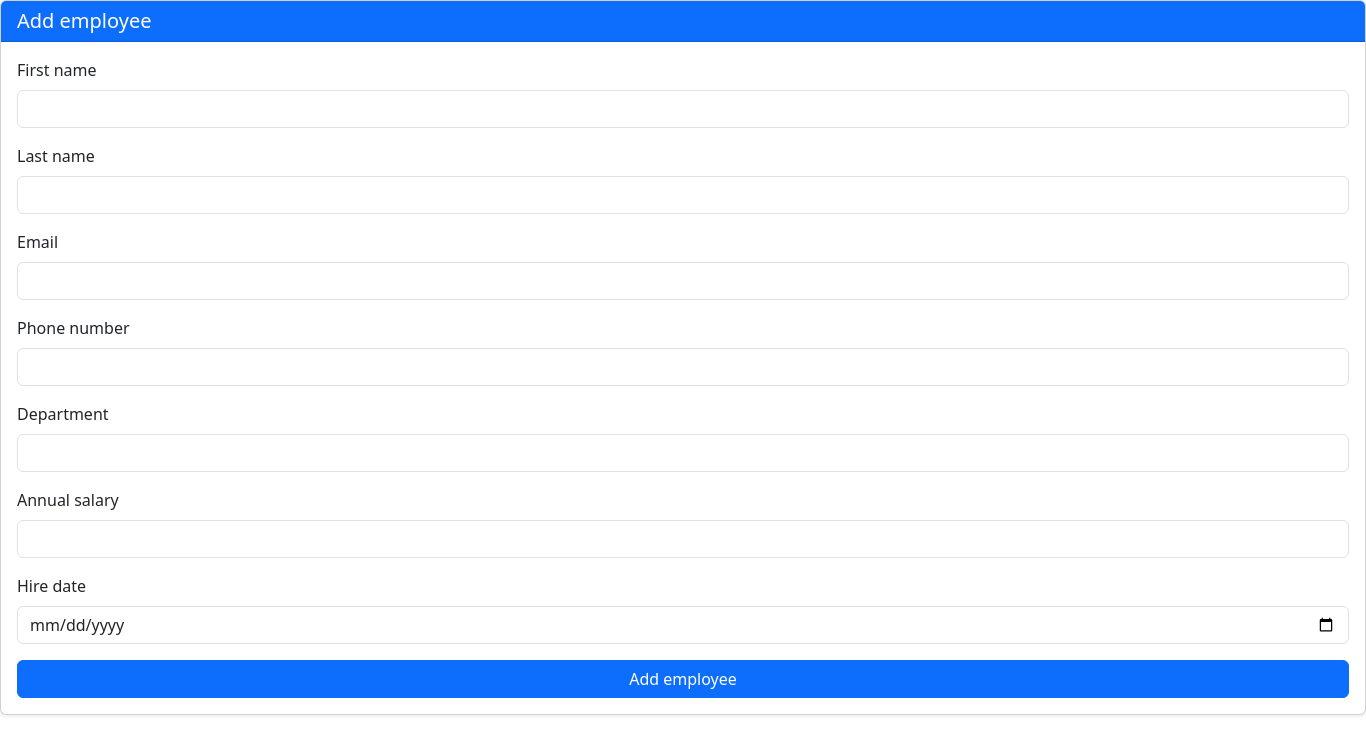
EmployeeForm › submits typed values and confirms successful creation
In the field labelled "First name": (683, 109) top-left (17, 90), bottom-right (1349, 128), type "Avery"
In the field labelled "Last name": (683, 195) top-left (17, 176), bottom-right (1349, 214), type "Morgan"
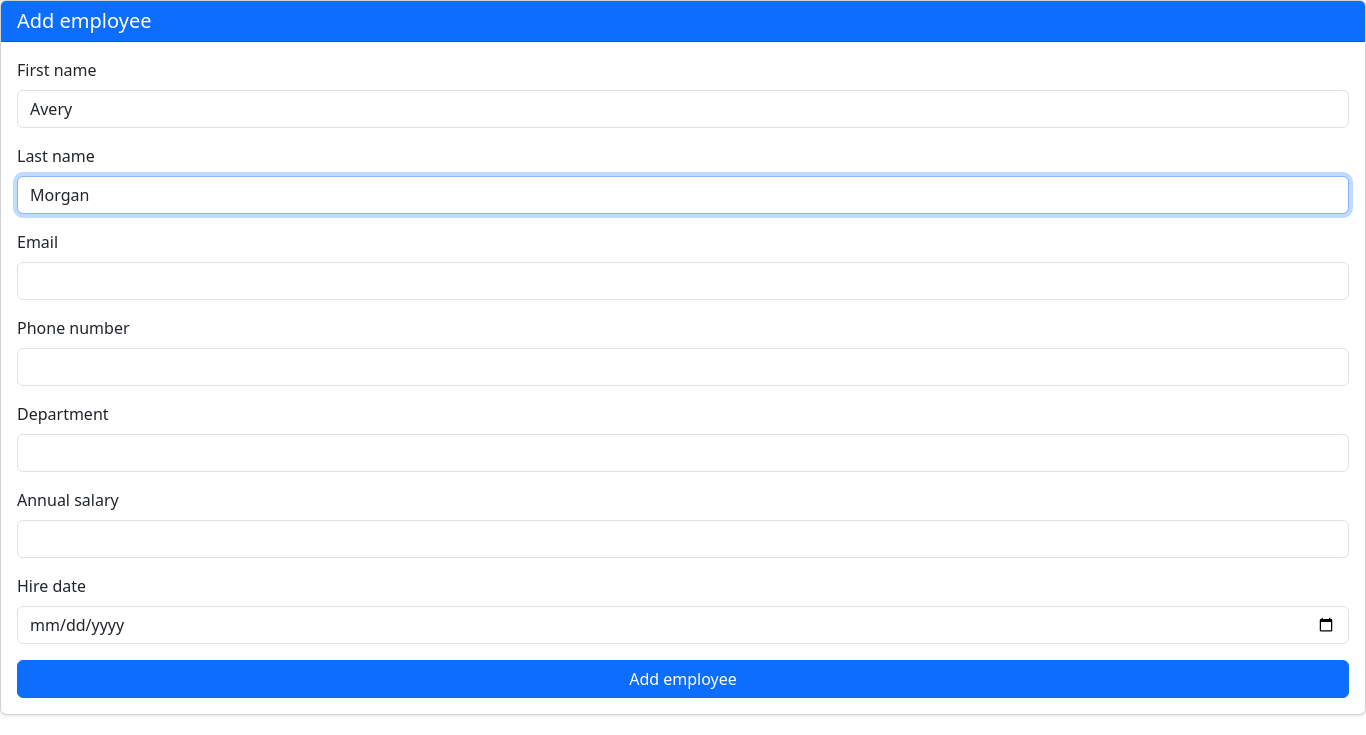
In the field labelled "Email": (683, 281) top-left (17, 262), bottom-right (1349, 300), type "avery.morgan@example.com"
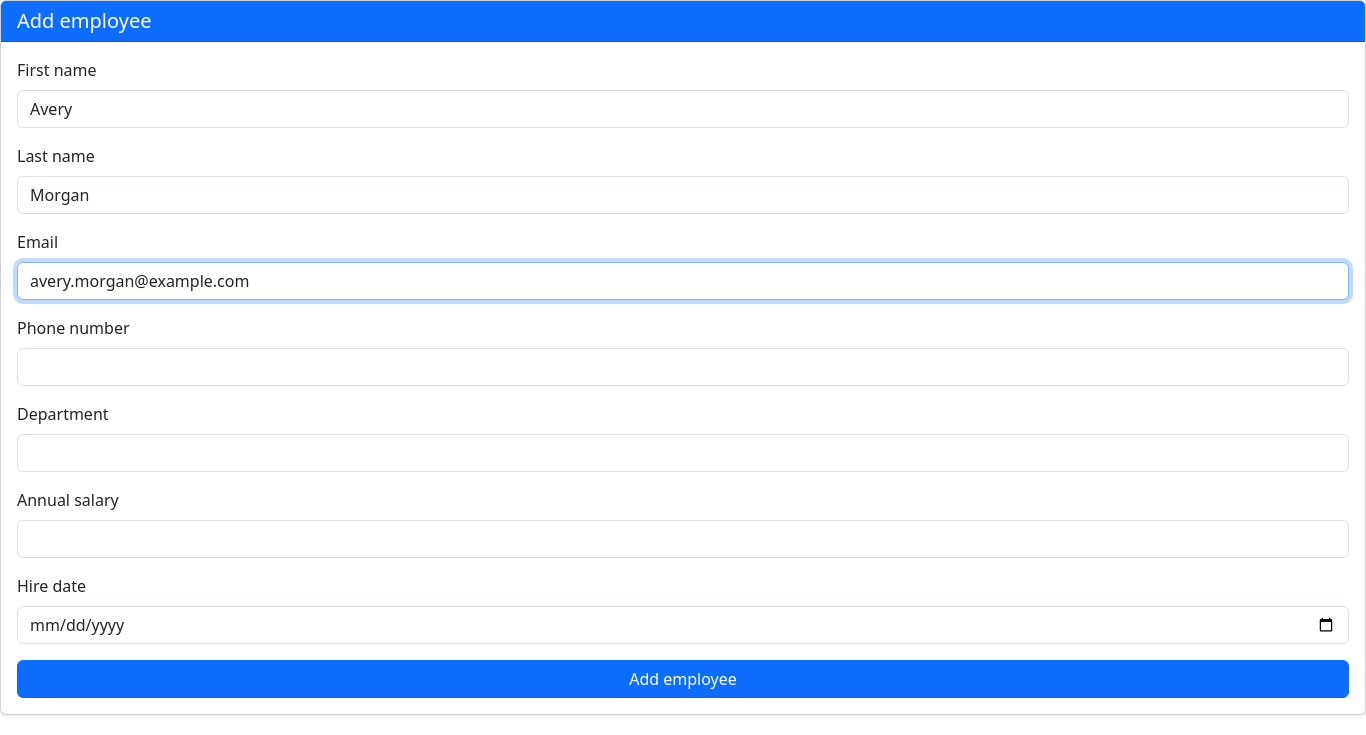
In the field labelled "Phone number": (683, 367) top-left (17, 348), bottom-right (1349, 386), type "555-0100"
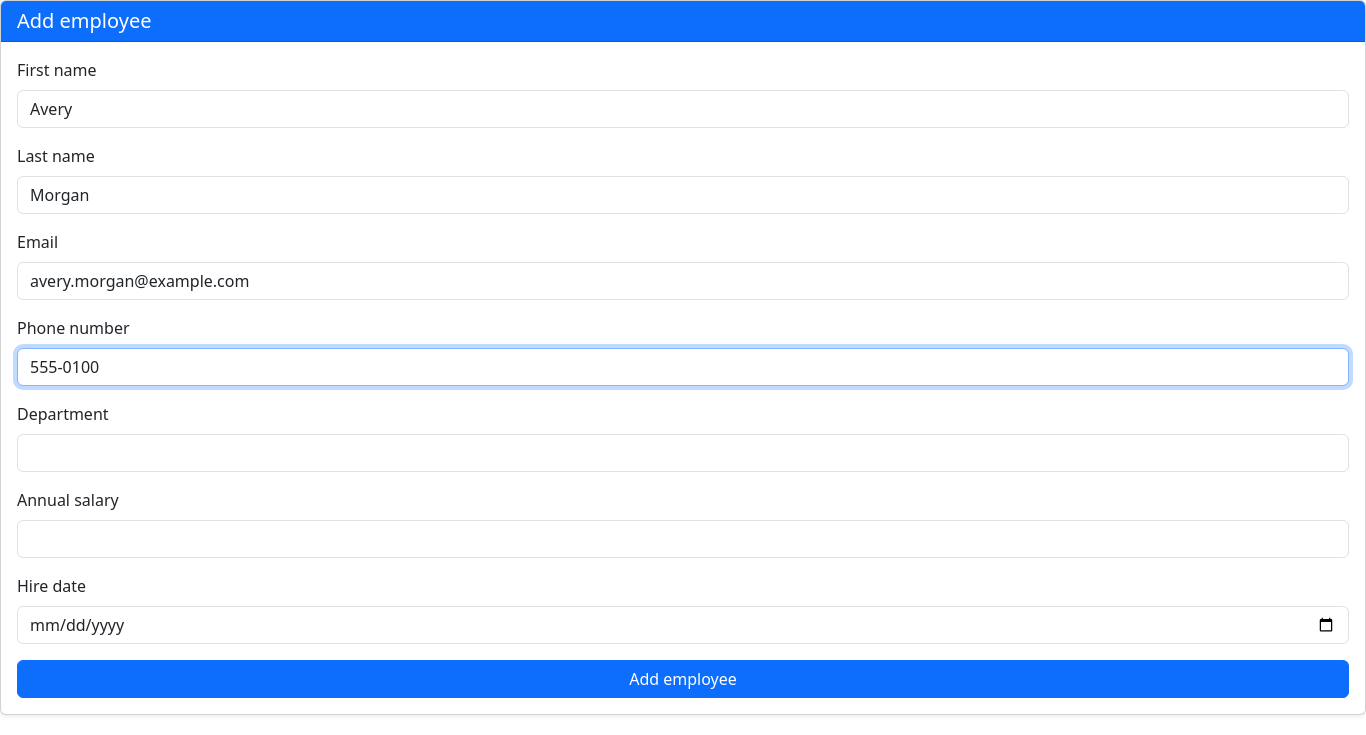
In the field labelled "Department": (683, 453) top-left (17, 434), bottom-right (1349, 472), type "Engineering"
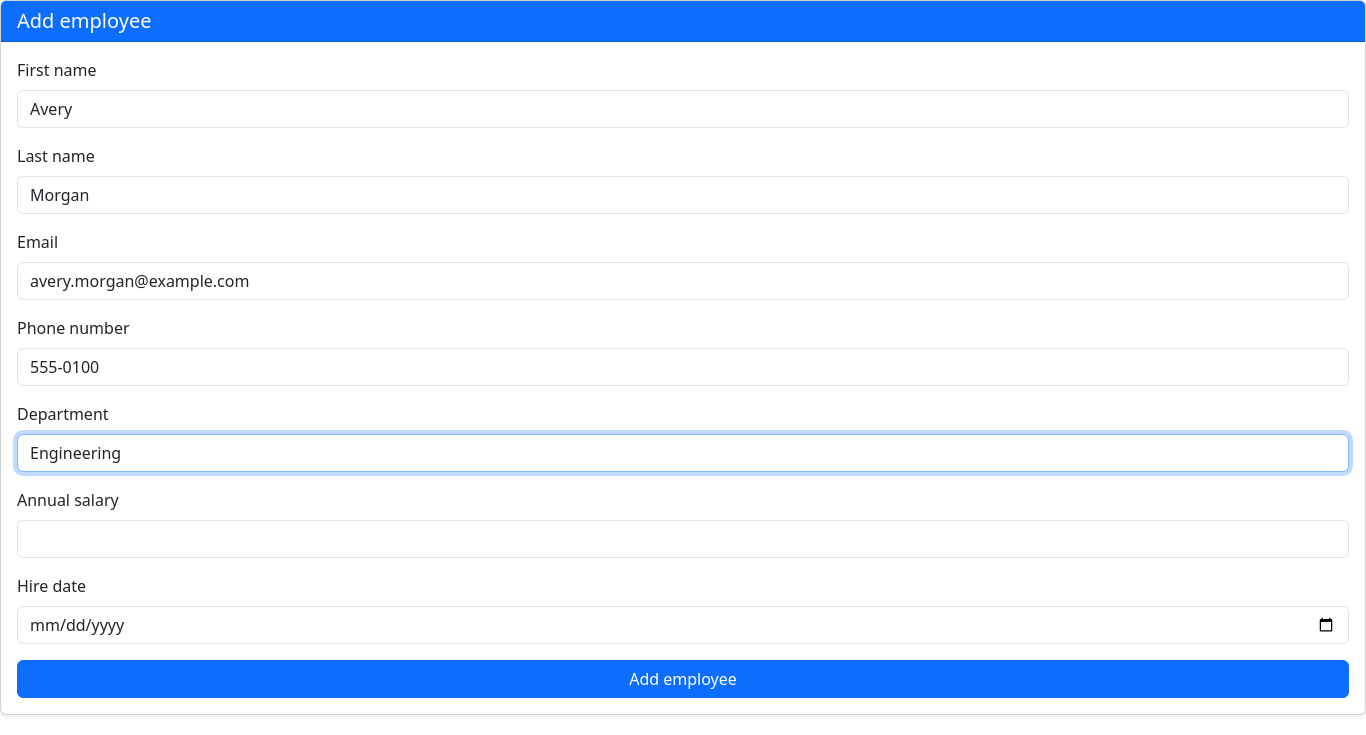
In the number field labelled "Annual salary": (683, 539) top-left (17, 520), bottom-right (1349, 558), type "85000.25"
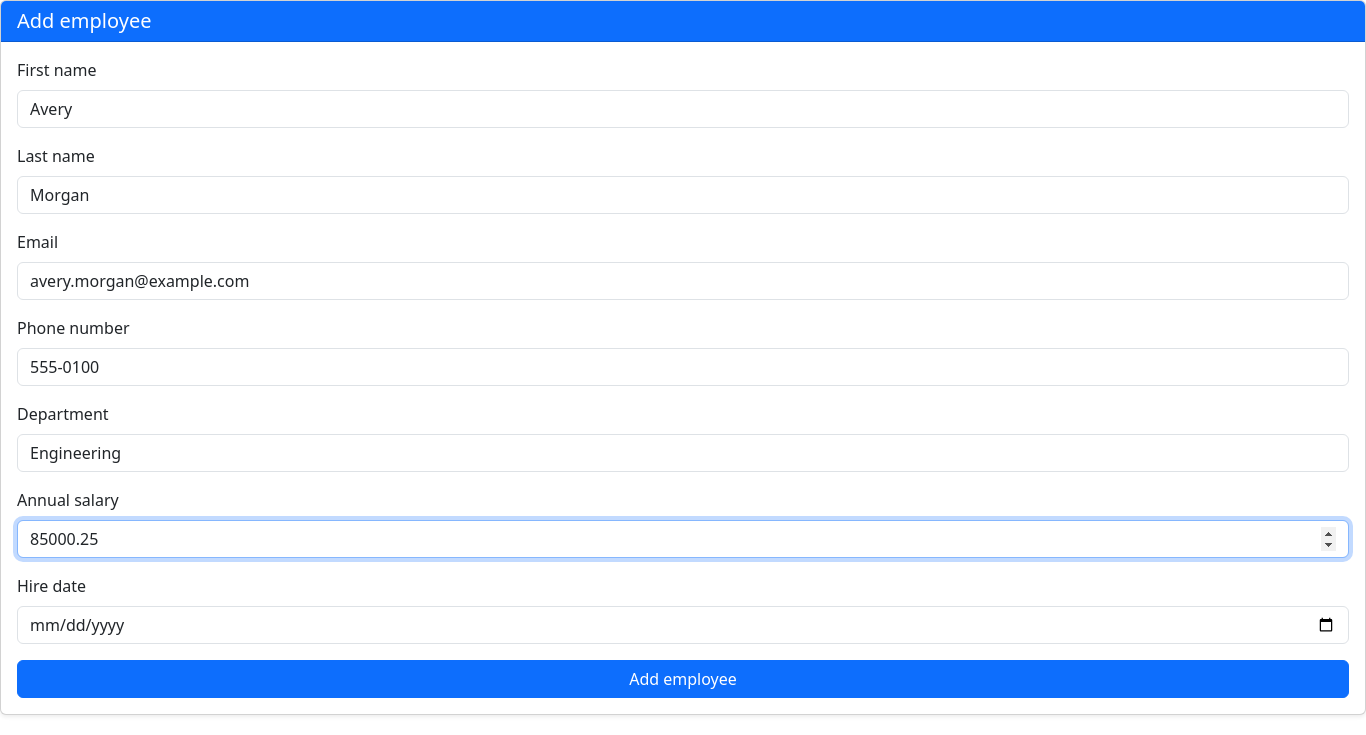
In the date field labelled "Hire date": (683, 625) top-left (17, 606), bottom-right (1349, 644), type "2022-01-01"
Click the button "Add employee": (683, 679) top-left (17, 660), bottom-right (1349, 698)
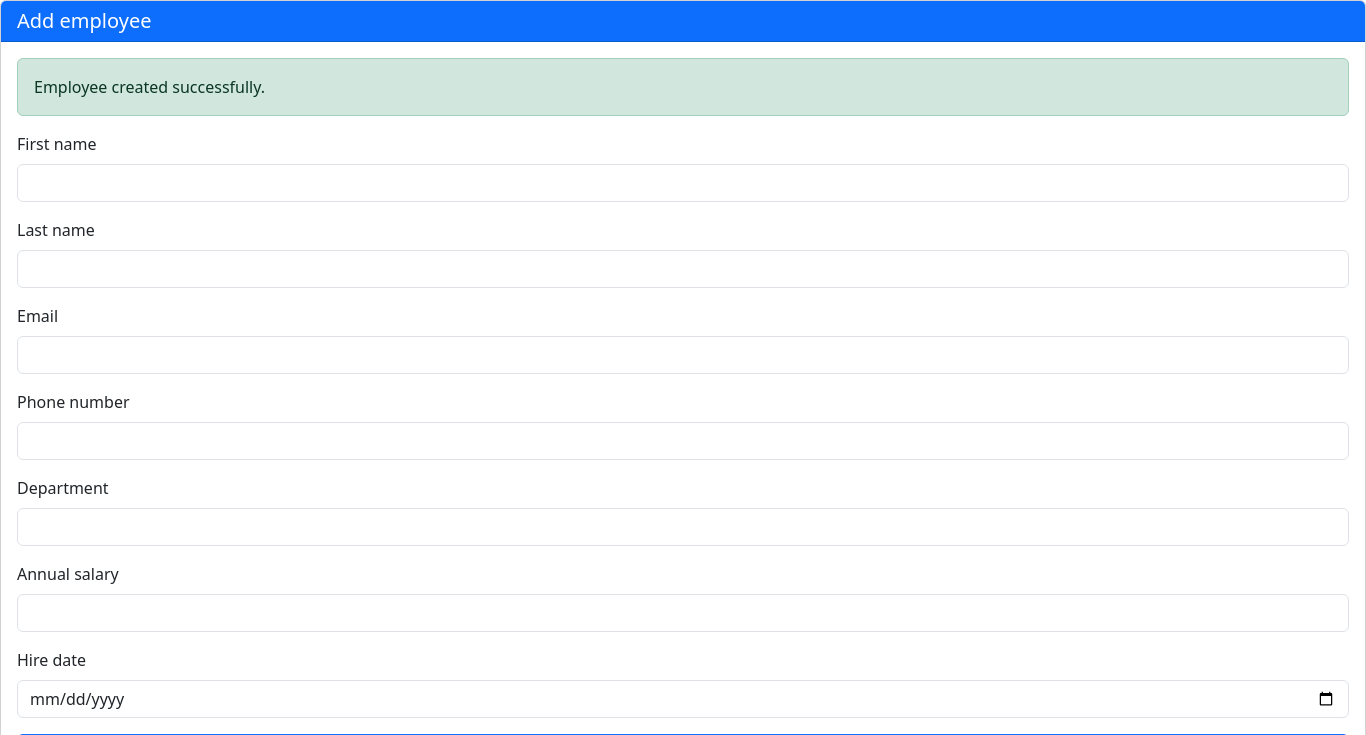
Check: the message reads "Employee created successfully.", box top-left (34, 76), bottom-right (265, 98)
